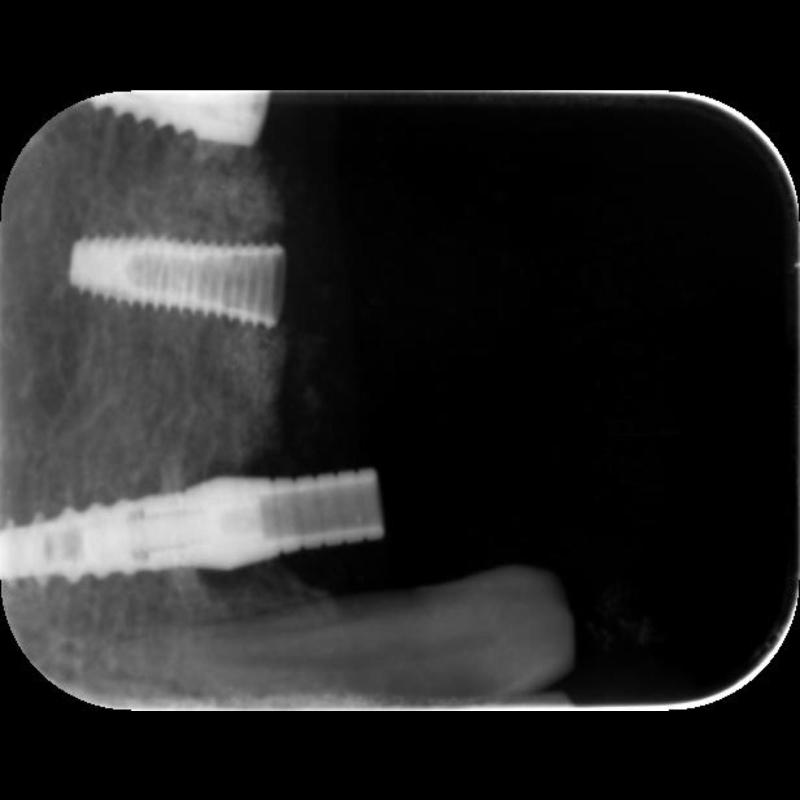Dentium: (68, 228, 296, 328)
